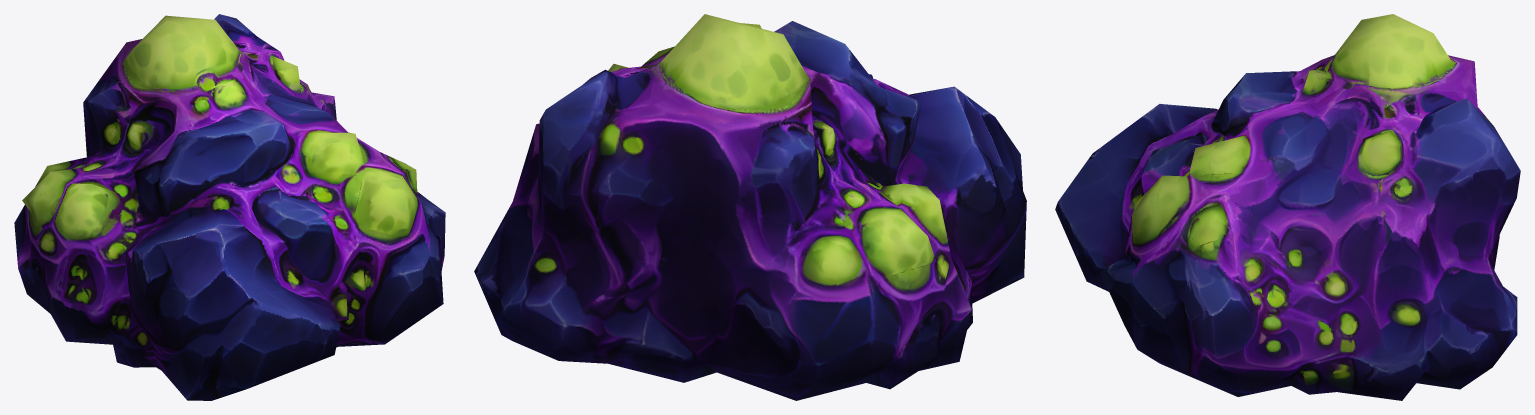
Rendered from fungal-biomass-boulder_LOD2.glb.
3 views of the same model, side by side, from view 1: azimuth 30°, elevation 25°; view 2: azimuth 150°, elevation 25°; view 3: azimuth 270°, elevation 25° (orthographic). The views are drawn at different scales.
Parts seen in each view (by area): view 1: fungal-biomass-boulder_LOD2; view 2: fungal-biomass-boulder_LOD2; view 3: fungal-biomass-boulder_LOD2.
Boxes of the visible parts, x1=… form: fungal-biomass-boulder_LOD2: x1=14, y1=14, x2=445, y2=400; fungal-biomass-boulder_LOD2: x1=474, y1=14, x2=1026, y2=400; fungal-biomass-boulder_LOD2: x1=1055, y1=14, x2=1520, y2=400.
Size of the model in its own units: 1.13 by 0.8411 by 1.21.
Materials: 1 (1 with a texture image).
